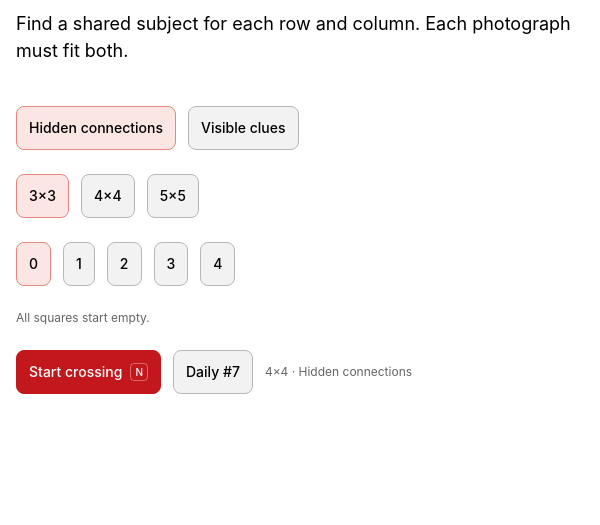
reports an unavailable puzzle without inventing a board
Click the button "Start crossing N": click(88, 372) [16,350,161,394]
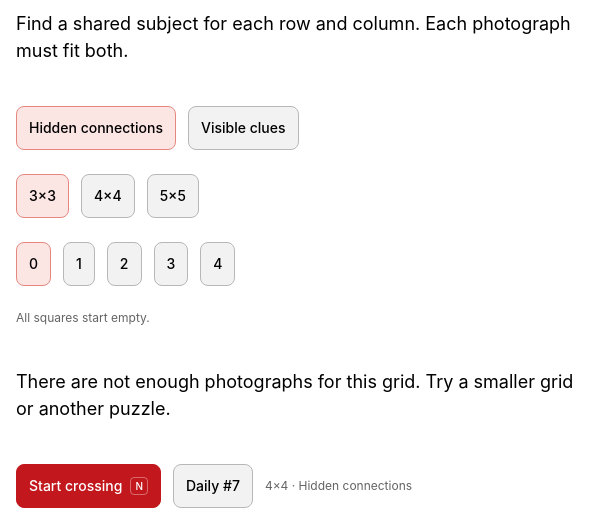
Expected: the message is shown, [16,368,584,422]
